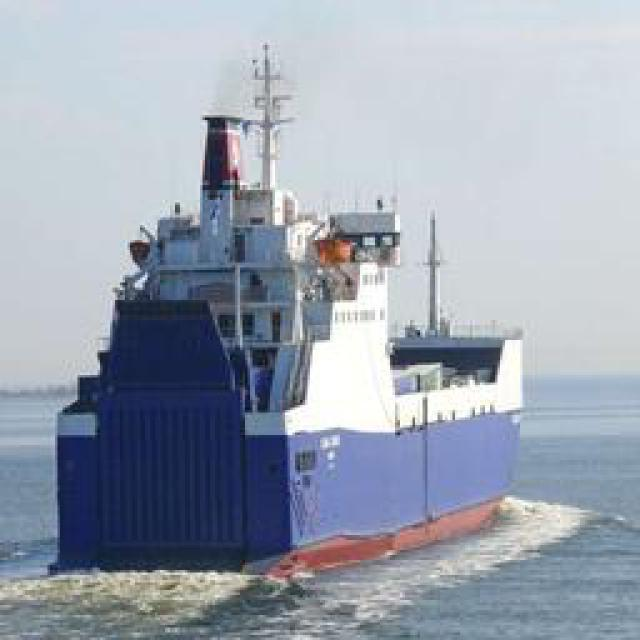Ship: (75, 35, 520, 585)
